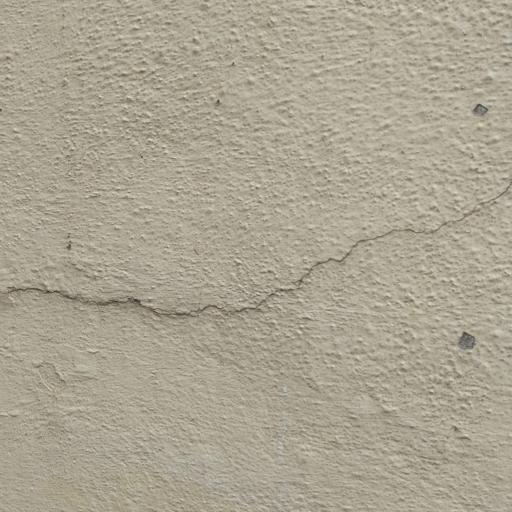minor_crack: (0, 174, 512, 377)
